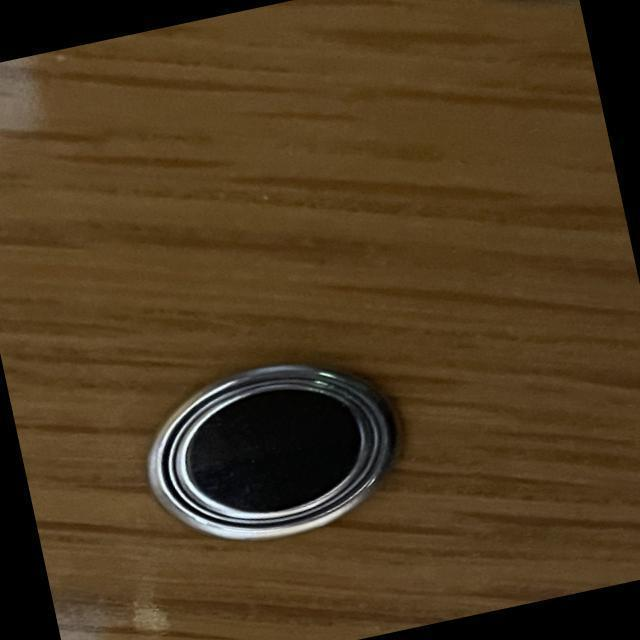COIN: (130, 338, 416, 562)
